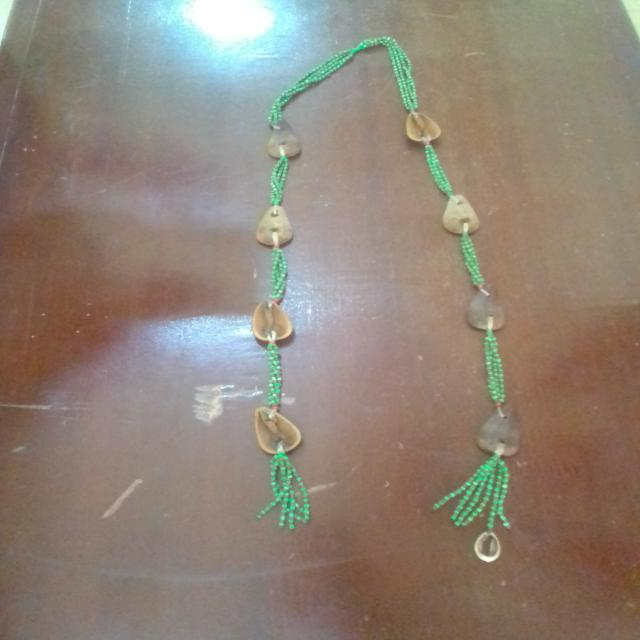facedown: (471, 400, 527, 462), (252, 202, 303, 254), (460, 284, 510, 333), (258, 118, 308, 166), (434, 191, 486, 236)
faceup: (250, 402, 305, 460), (247, 298, 295, 348), (395, 111, 449, 147)
